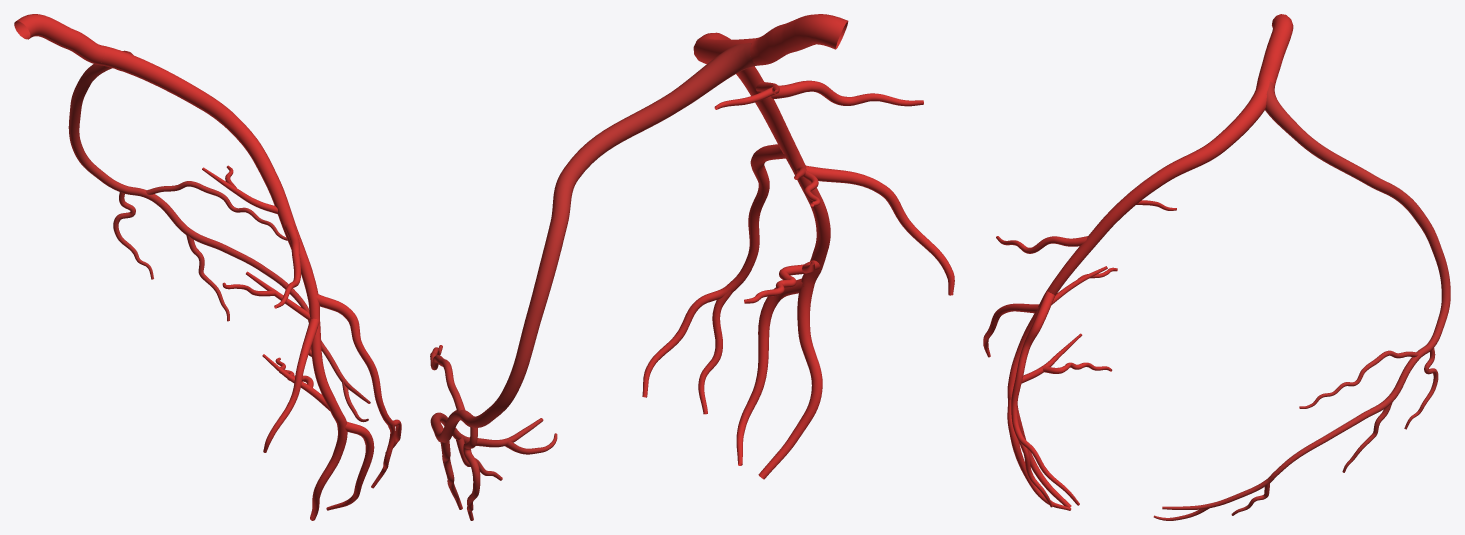
The model's file is circulatorio-left-coronary-artery.glb.
The picture shows the model from 3 angles, left to right: view 1: azimuth 30°, elevation 25°; view 2: azimuth 150°, elevation 25°; view 3: azimuth 270°, elevation 25°; orthographic projection. The views are drawn at different scales.
Visible parts, largest first — view 1: Anterior interventricular artery, Circumflex artery of heart, Left coronary artery, Septal branches of anterior interventricular artery; view 2: Anterior interventricular artery, Circumflex artery of heart, Left coronary artery, Septal branches of anterior interventricular artery; view 3: Anterior interventricular artery, Circumflex artery of heart, Septal branches of anterior interventricular artery, Left coronary artery.
Boxes of the visible parts, bbox=[...] form: Anterior interventricular artery: bbox=[99, 45, 401, 520]; Circumflex artery of heart: bbox=[68, 50, 370, 422]; Left coronary artery: bbox=[14, 14, 104, 64]; Septal branches of anterior interventricular artery: bbox=[202, 165, 329, 410]; Anterior interventricular artery: bbox=[642, 32, 954, 479]; Circumflex artery of heart: bbox=[430, 42, 757, 520]; Left coronary artery: bbox=[750, 14, 848, 65]; Septal branches of anterior interventricular artery: bbox=[714, 81, 820, 303]; Anterior interventricular artery: bbox=[983, 80, 1269, 510]; Circumflex artery of heart: bbox=[1153, 81, 1450, 520]; Septal branches of anterior interventricular artery: bbox=[1021, 200, 1176, 383]; Left coronary artery: bbox=[1256, 14, 1293, 86].
Bounding box in the file's own units: 0.0592 × 0.0894 × 0.0905.
